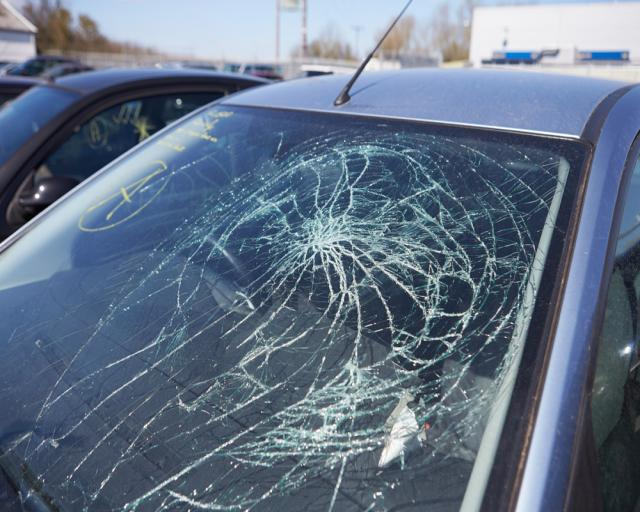glass shatter: (0, 105, 585, 512)
